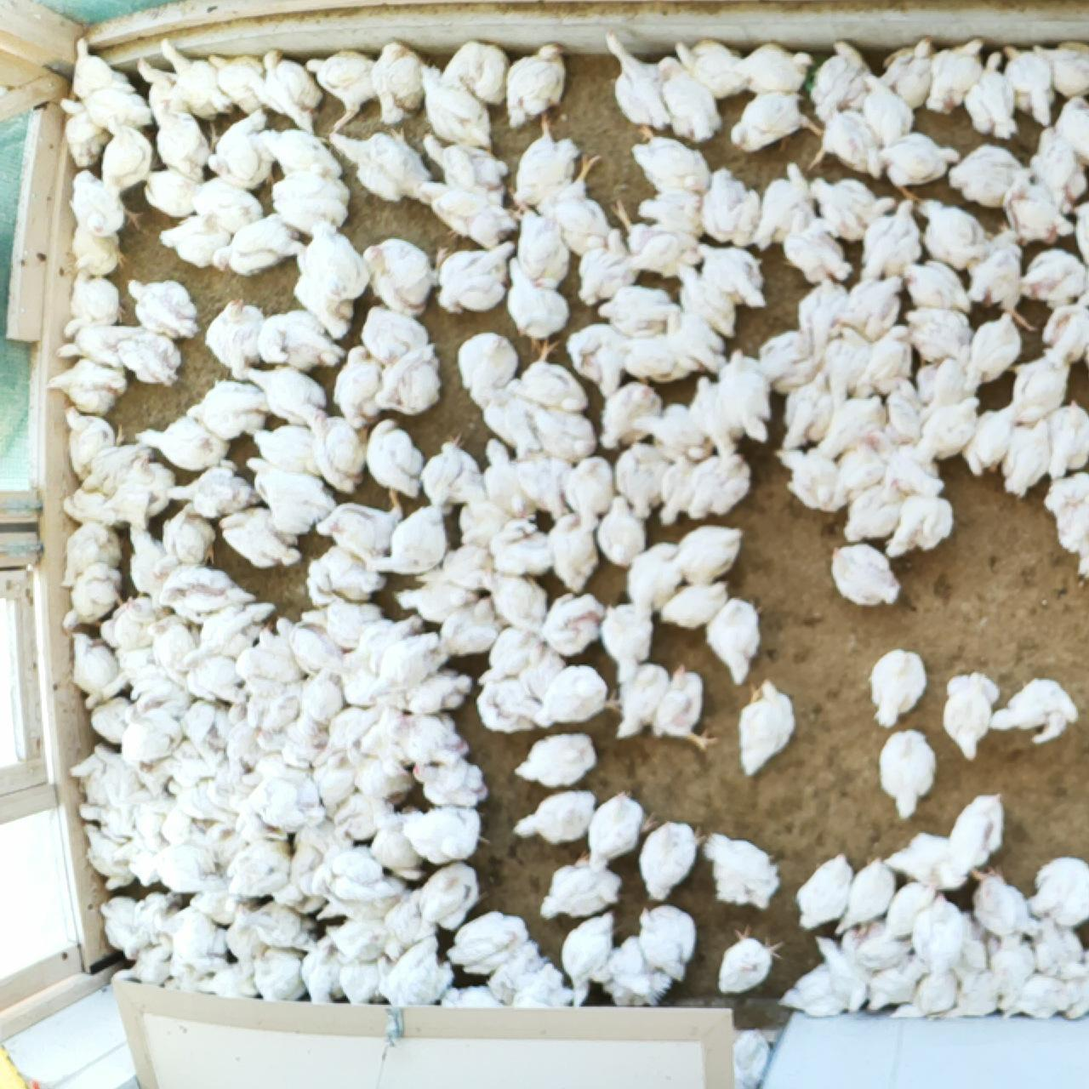chicken: (328, 128, 431, 206), (966, 225, 1035, 331), (609, 201, 704, 277), (247, 458, 338, 534), (314, 487, 402, 565), (418, 182, 518, 248), (181, 602, 275, 672), (510, 115, 579, 210), (606, 30, 671, 128), (421, 66, 495, 151), (547, 153, 609, 253), (507, 338, 589, 413), (436, 240, 516, 315), (989, 678, 1077, 746), (305, 49, 376, 133), (590, 934, 670, 1007), (1001, 171, 1075, 249), (362, 238, 436, 316), (243, 767, 329, 834), (885, 831, 981, 891), (293, 246, 354, 340), (213, 214, 303, 277), (704, 834, 779, 909), (814, 389, 891, 462), (508, 259, 569, 351), (160, 38, 231, 117), (880, 132, 960, 202), (948, 142, 1030, 210), (540, 852, 622, 919), (731, 92, 821, 153), (158, 563, 254, 620), (632, 126, 711, 195), (259, 308, 345, 371), (311, 876, 417, 927), (533, 665, 620, 727), (368, 505, 447, 573), (653, 664, 715, 750), (811, 178, 894, 242), (208, 109, 274, 189), (446, 909, 528, 973), (738, 681, 794, 774), (659, 58, 721, 142), (153, 100, 218, 180), (423, 134, 508, 195), (245, 363, 326, 427), (136, 416, 229, 471), (401, 806, 489, 864), (220, 508, 305, 568), (378, 938, 453, 1006), (784, 210, 851, 286), (588, 792, 654, 869), (271, 172, 349, 237), (949, 791, 1004, 883), (688, 441, 752, 520), (704, 591, 762, 678), (505, 43, 565, 127), (872, 433, 946, 501), (879, 730, 936, 818), (561, 912, 614, 1006), (471, 385, 541, 456), (369, 633, 444, 699), (718, 349, 771, 442), (861, 198, 921, 280), (638, 821, 701, 899), (961, 51, 1018, 137), (759, 161, 816, 247), (918, 197, 988, 267), (478, 438, 537, 521), (313, 847, 407, 899), (226, 900, 306, 961), (260, 48, 319, 130), (186, 380, 268, 439), (129, 796, 207, 858), (775, 443, 847, 510), (943, 672, 996, 763), (168, 462, 257, 516), (305, 221, 368, 297), (423, 434, 486, 510), (305, 547, 386, 606), (807, 110, 877, 178), (205, 298, 263, 380), (775, 962, 858, 1018), (577, 228, 638, 304), (277, 828, 348, 893), (510, 792, 595, 846), (811, 39, 869, 118), (1031, 128, 1086, 211), (373, 345, 440, 413), (830, 542, 900, 607), (638, 904, 697, 981), (567, 323, 629, 396), (1045, 471, 1089, 573), (844, 479, 909, 548), (70, 749, 146, 808), (157, 844, 233, 903), (840, 272, 904, 342), (368, 419, 424, 499), (47, 357, 127, 413), (836, 857, 894, 934), (624, 541, 686, 613), (61, 562, 123, 634), (515, 733, 596, 788), (457, 332, 518, 405), (64, 407, 125, 480), (869, 648, 926, 726), (704, 168, 761, 246), (677, 265, 736, 340), (442, 40, 510, 105), (258, 703, 322, 772), (516, 453, 579, 523), (277, 616, 347, 679), (853, 324, 911, 400), (71, 170, 142, 232), (675, 39, 748, 99), (373, 43, 426, 125), (690, 374, 743, 456), (665, 305, 727, 375), (289, 830, 340, 915), (633, 403, 709, 460), (1002, 419, 1056, 499), (127, 278, 199, 338), (620, 329, 703, 381), (613, 442, 669, 519), (311, 416, 367, 493), (516, 210, 571, 288), (362, 306, 431, 368), (106, 464, 175, 526), (113, 327, 183, 388), (209, 54, 280, 114), (717, 930, 784, 993), (62, 271, 125, 338), (1012, 351, 1069, 425), (419, 862, 480, 931), (873, 376, 932, 447), (528, 403, 599, 462), (100, 117, 153, 196), (476, 676, 548, 734), (797, 277, 846, 362), (927, 37, 981, 114), (370, 819, 437, 881), (796, 852, 852, 926), (675, 524, 744, 584), (816, 935, 869, 1013), (599, 286, 677, 339), (262, 128, 341, 180), (974, 868, 1028, 944), (700, 244, 765, 307), (71, 37, 136, 100), (543, 592, 604, 659), (887, 493, 954, 554), (822, 323, 870, 407), (440, 596, 504, 659), (916, 396, 978, 461), (1002, 46, 1053, 125), (1021, 248, 1089, 307), (548, 511, 598, 591), (300, 600, 380, 650), (333, 345, 382, 426), (61, 521, 123, 585), (345, 744, 410, 805), (600, 382, 660, 448), (961, 404, 1015, 477), (191, 180, 264, 234), (614, 664, 667, 738), (395, 575, 475, 624), (759, 329, 821, 392), (862, 74, 914, 149), (238, 624, 305, 682), (637, 186, 707, 241), (71, 633, 121, 710), (781, 371, 833, 445), (483, 573, 547, 633), (316, 707, 380, 767), (600, 602, 651, 677), (164, 904, 231, 961), (381, 888, 437, 956), (490, 516, 552, 577), (55, 323, 139, 368), (210, 761, 280, 815), (225, 839, 289, 898), (154, 803, 225, 856), (137, 59, 193, 126), (219, 699, 275, 766), (1000, 972, 1079, 1019), (83, 825, 140, 890), (913, 895, 961, 972), (419, 542, 496, 590), (128, 527, 174, 607), (301, 937, 355, 1005), (342, 644, 401, 706), (253, 424, 322, 477), (1028, 858, 1086, 921), (360, 616, 424, 673), (399, 716, 469, 768), (413, 761, 490, 808), (905, 308, 972, 362), (112, 833, 180, 886), (741, 43, 813, 93), (479, 626, 542, 683), (1029, 921, 1089, 980), (491, 943, 549, 1004), (114, 641, 170, 704), (916, 359, 985, 410), (159, 215, 229, 265), (81, 443, 151, 493), (971, 314, 1020, 385), (904, 261, 972, 312), (170, 773, 238, 824), (877, 42, 932, 105), (358, 705, 413, 768), (565, 458, 613, 530), (163, 504, 216, 569), (1045, 400, 1089, 478), (325, 917, 403, 961), (597, 495, 646, 565), (151, 616, 197, 690), (111, 936, 174, 990), (62, 100, 112, 168), (841, 921, 913, 968), (1034, 37, 1089, 98), (248, 672, 303, 733), (944, 965, 1006, 1019), (168, 947, 231, 1000), (254, 946, 311, 1004), (120, 707, 180, 762), (94, 744, 157, 796), (659, 581, 727, 629), (183, 698, 233, 763), (78, 795, 145, 843), (100, 894, 148, 961), (185, 655, 249, 704), (82, 88, 156, 130), (101, 595, 160, 647), (949, 911, 998, 973), (458, 485, 506, 548), (403, 670, 470, 715), (133, 890, 187, 945), (892, 971, 955, 1018), (864, 960, 927, 1007), (1042, 299, 1089, 362), (314, 755, 359, 820), (71, 227, 128, 278), (168, 746, 235, 789), (659, 454, 699, 526), (63, 483, 128, 527), (886, 881, 936, 938), (145, 167, 202, 217), (198, 959, 265, 1000), (299, 669, 347, 726), (518, 967, 580, 1011), (520, 640, 566, 699), (336, 793, 395, 839), (339, 956, 394, 1005), (994, 933, 1039, 991), (837, 442, 887, 491), (733, 1029, 771, 1089), (1055, 98, 1089, 162), (90, 697, 134, 746), (1060, 955, 1089, 1023), (442, 984, 502, 1006), (1072, 202, 1089, 264)
